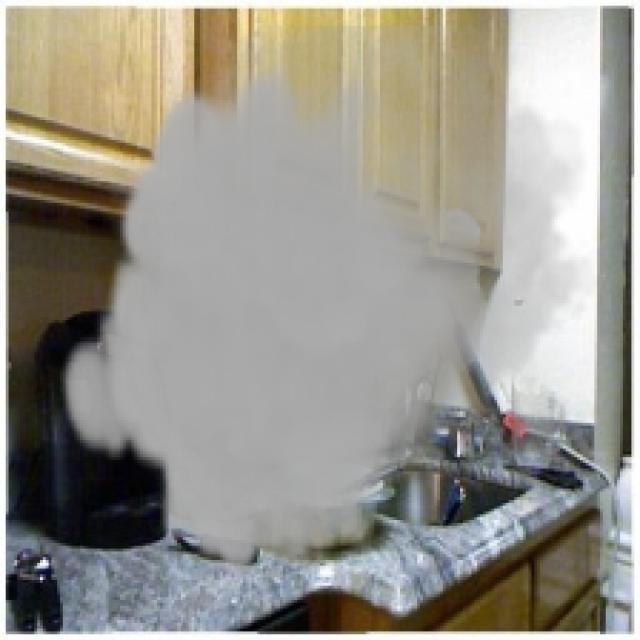smoke: (57, 26, 603, 580)
